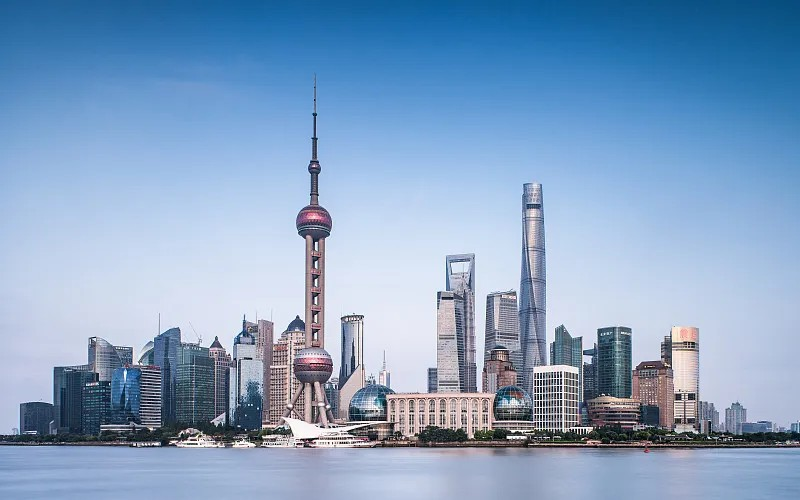Oriental: (278, 72, 334, 427)
